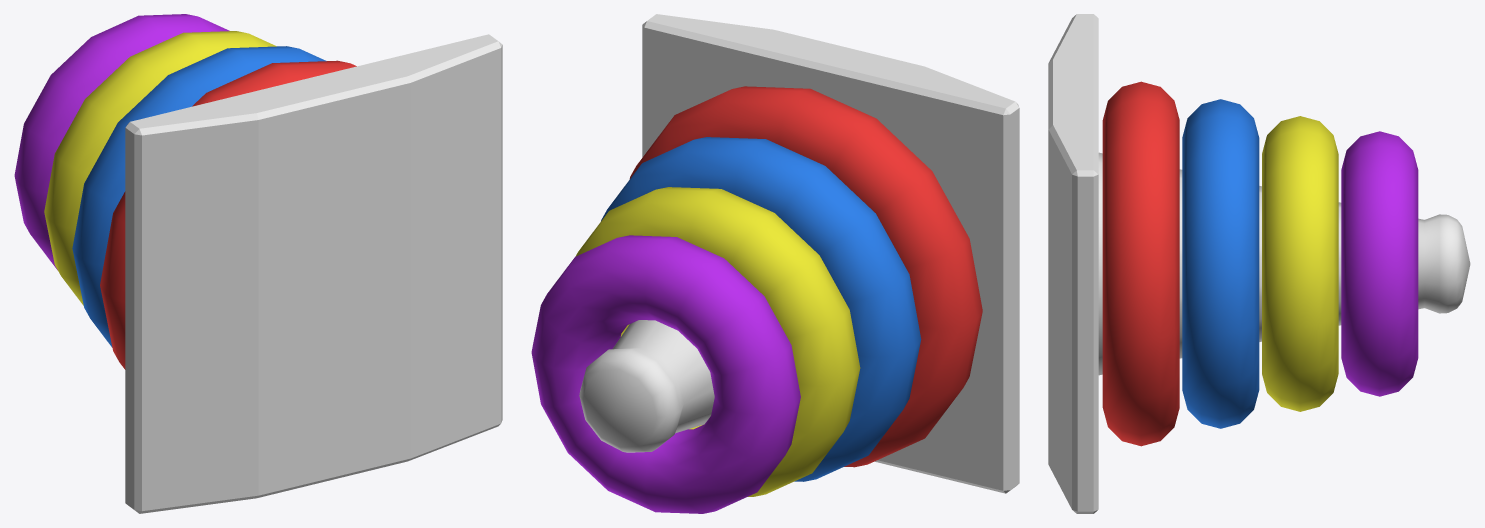
3 renders of one model, left to right at view 1: azimuth 30°, elevation 25°; view 2: azimuth 150°, elevation 25°; view 3: azimuth 270°, elevation 25°, orthographic. The views are drawn at different scales.
Visible parts, largest first — view 1: imagetostl_mesh1, imagetostl_mesh3, imagetostl_mesh4, imagetostl_mesh2, imagetostl_mesh0; view 2: imagetostl_mesh1, imagetostl_mesh4, imagetostl_mesh0, imagetostl_mesh2, imagetostl_mesh3; view 3: imagetostl_mesh1, imagetostl_mesh0, imagetostl_mesh2, imagetostl_mesh3, imagetostl_mesh4.
Part boxes in pixels (x1,y1,x2,y2): imagetostl_mesh1: (125, 34, 502, 513); imagetostl_mesh3: (44, 31, 276, 305); imagetostl_mesh4: (14, 14, 229, 270); imagetostl_mesh2: (72, 46, 326, 347); imagetostl_mesh0: (100, 60, 356, 369); imagetostl_mesh1: (579, 14, 1019, 493); imagetostl_mesh4: (531, 235, 800, 513); imagetostl_mesh0: (629, 86, 982, 467); imagetostl_mesh2: (601, 137, 921, 481); imagetostl_mesh3: (575, 187, 860, 496); imagetostl_mesh1: (1048, 14, 1470, 513); imagetostl_mesh0: (1102, 81, 1179, 446); imagetostl_mesh2: (1182, 99, 1259, 428); imagetostl_mesh3: (1262, 116, 1338, 411); imagetostl_mesh4: (1341, 131, 1418, 396).
Bounding box in the file's own units: 75.18 × 75.18 × 83.67.
